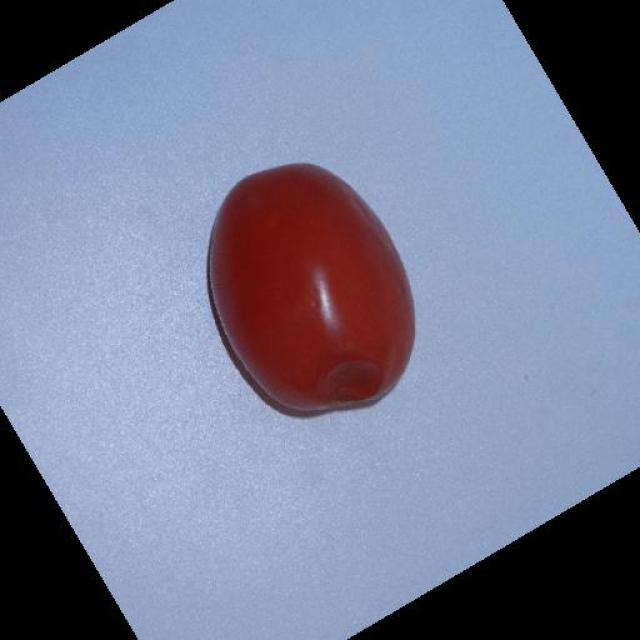Stale_tomato: (186, 147, 420, 433)
